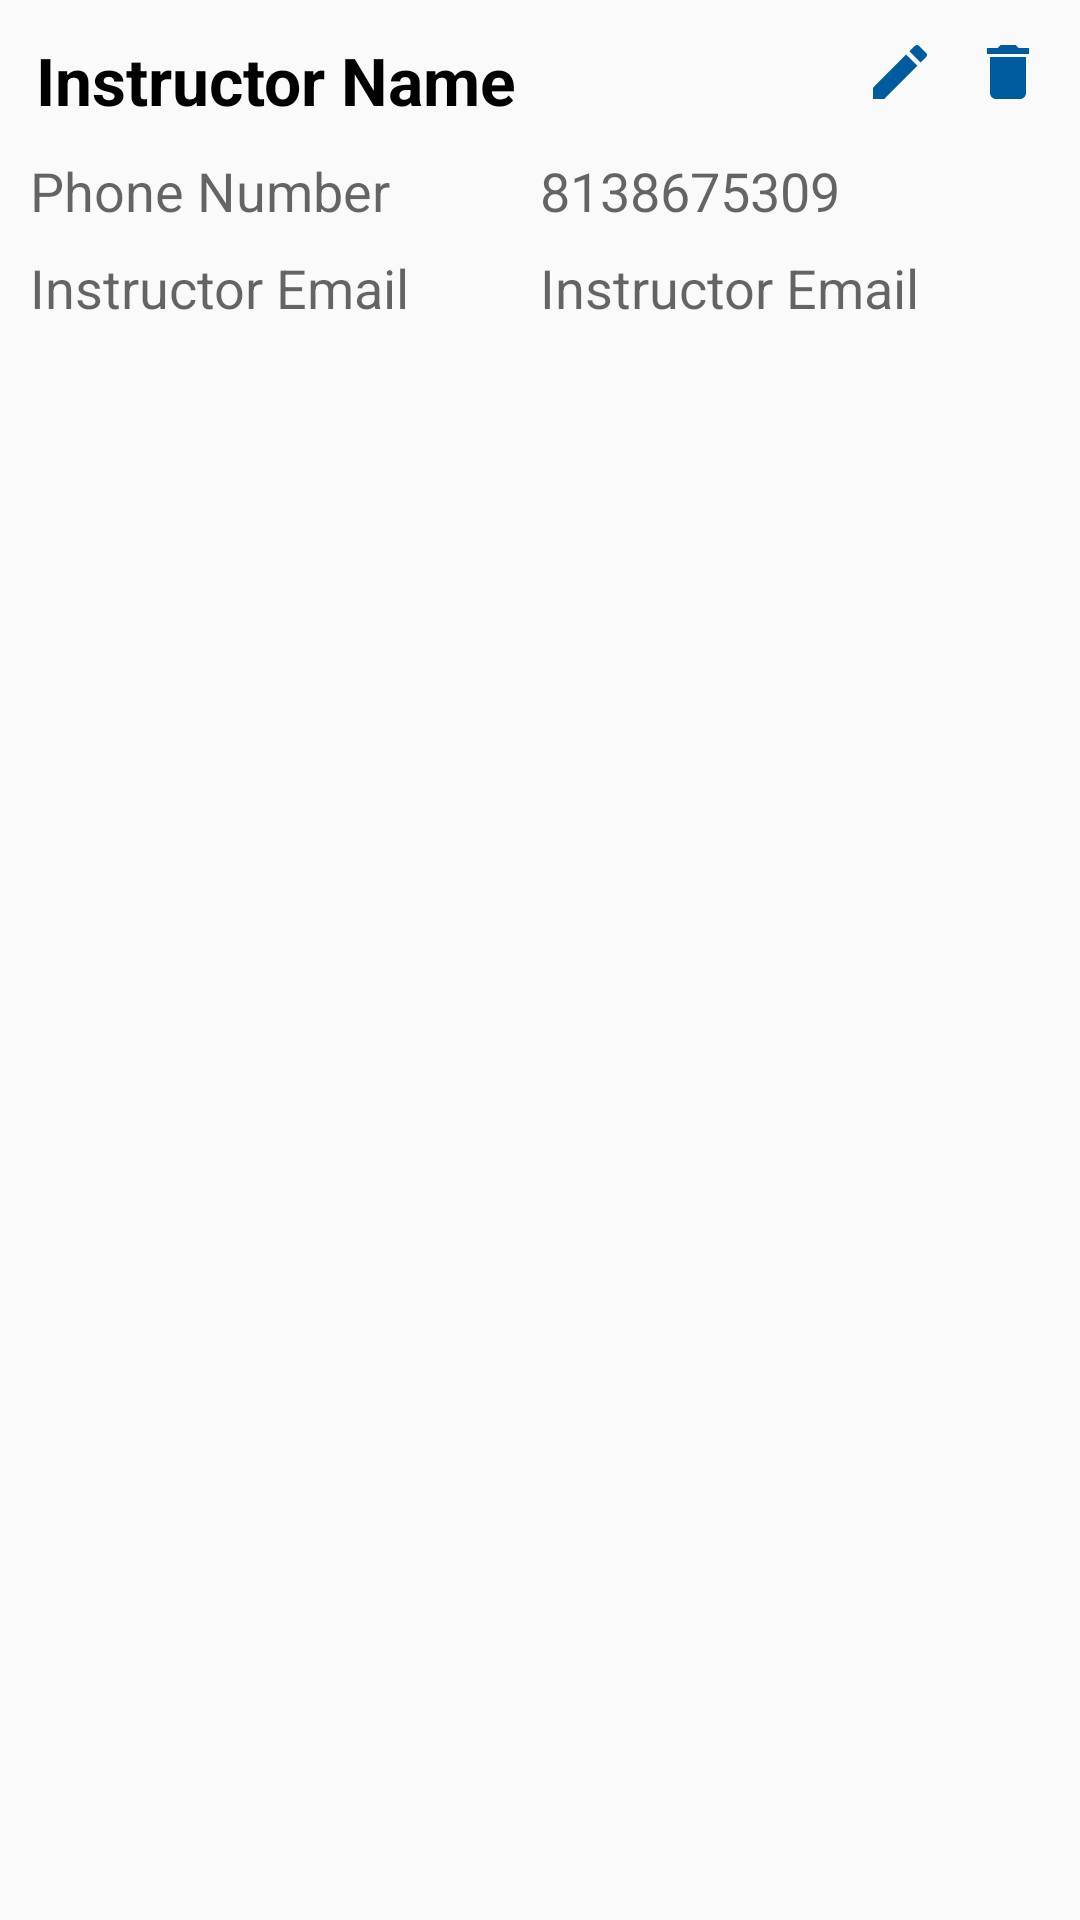

Where to tap for icons on this 1080x1920 app screen, as point (x, y):
delete: point (1008, 72)
edit: point (900, 72)
